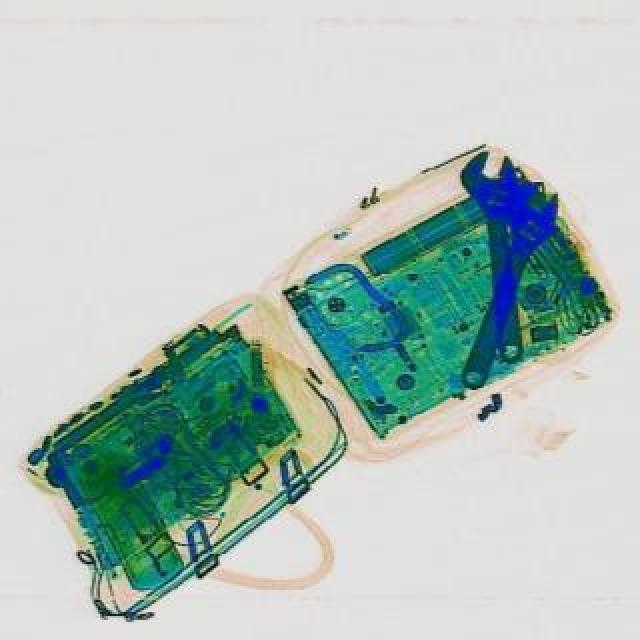scissors: (438, 176, 578, 400), (460, 150, 540, 368)
